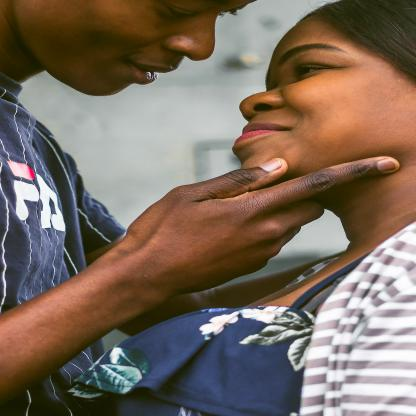Eye: (158, 1, 197, 19), (295, 64, 336, 81)
Mouth: (234, 121, 292, 144), (128, 59, 177, 85)
Nose: (161, 17, 217, 61), (239, 85, 286, 121)
